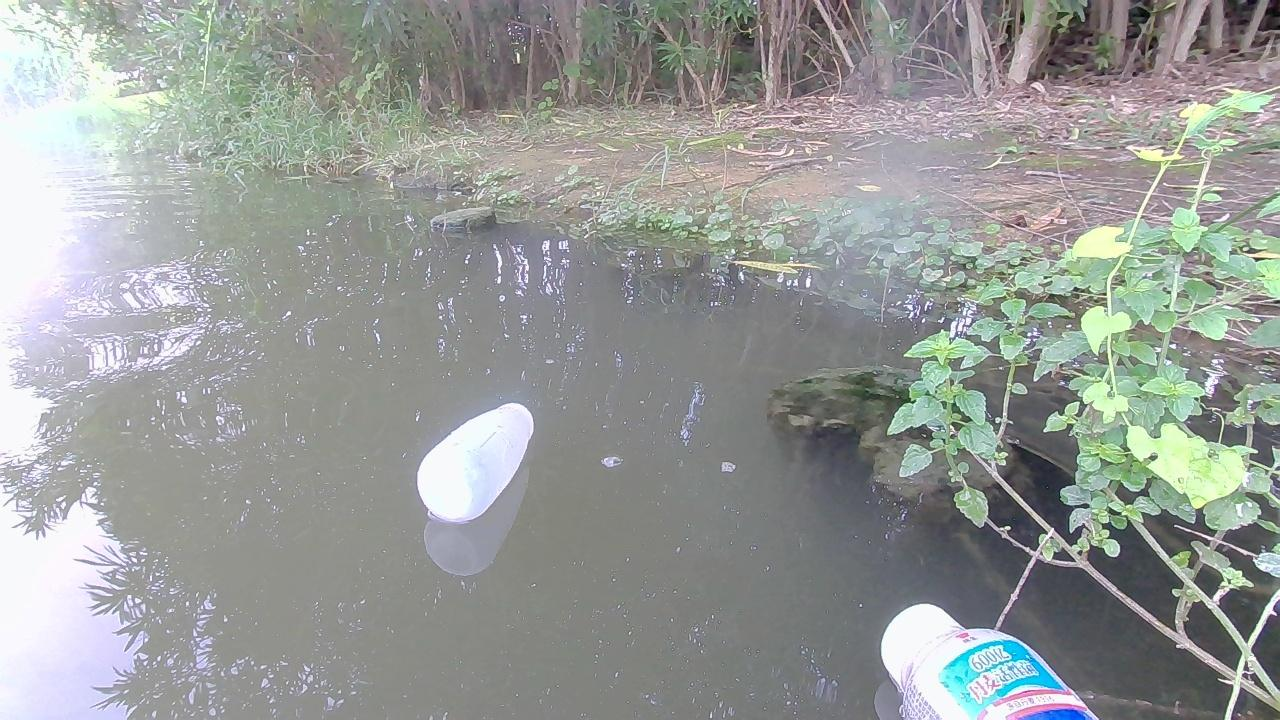bottle: (883, 585, 1090, 719), (416, 386, 538, 521)
